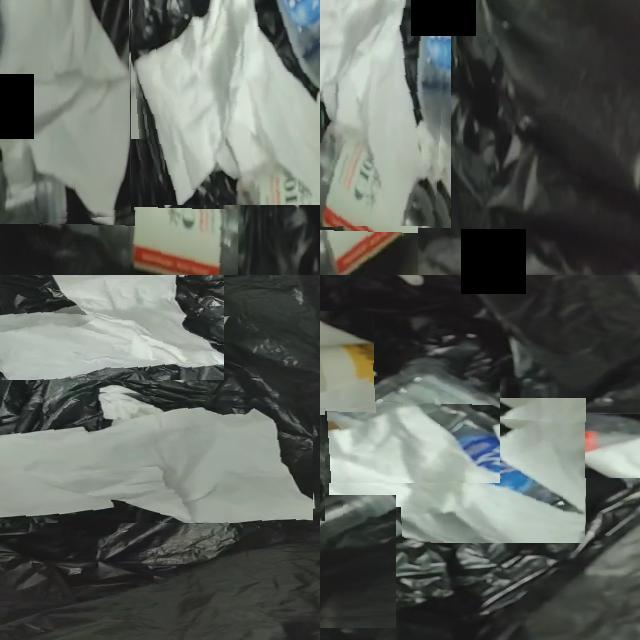bottle: (39, 152, 238, 275), (320, 363, 500, 467), (320, 123, 418, 275), (147, 0, 231, 139), (480, 414, 640, 478)
paper: (0, 391, 313, 523), (133, 0, 320, 205), (320, 409, 585, 543), (0, 0, 131, 219), (320, 0, 441, 227), (0, 275, 224, 380)
